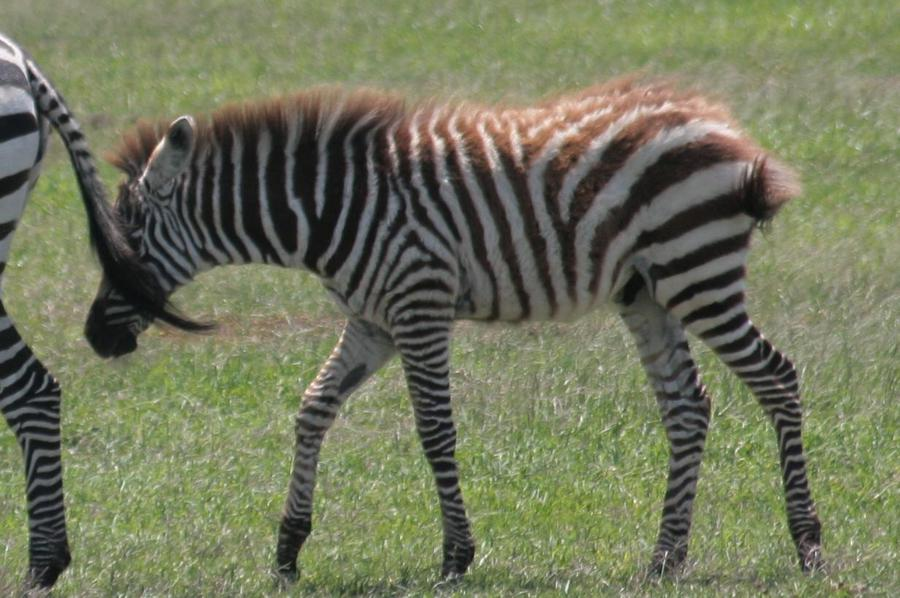zebra_plains: (275, 61, 815, 379)
